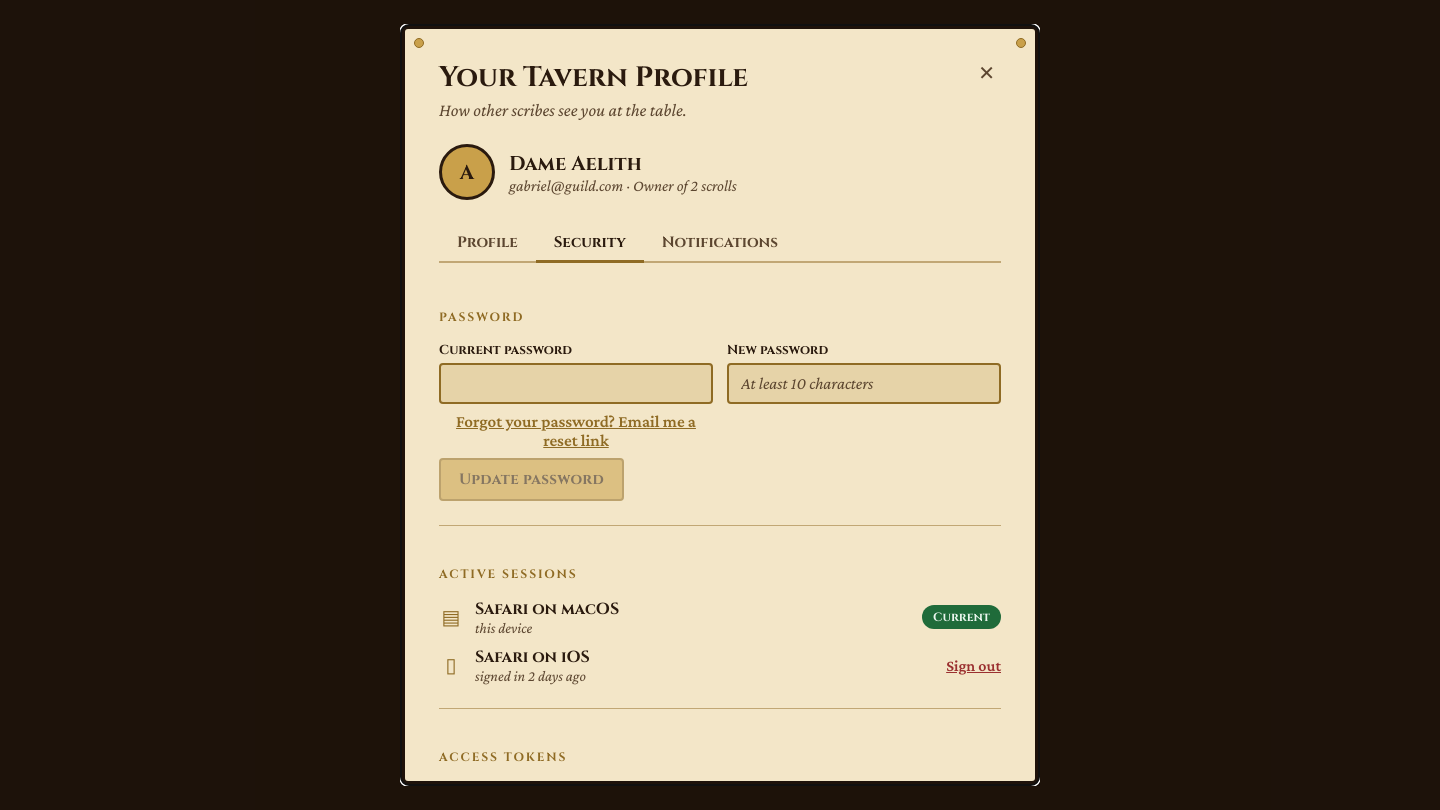
Test: ProfileModalComponent › security › rates the new password and only allows an update once there is a current password and 10+ characters
The image size is (1440, 810).
Type "old password" into the password field named "cur". click: (576, 384)
box: [439, 363, 713, 404]
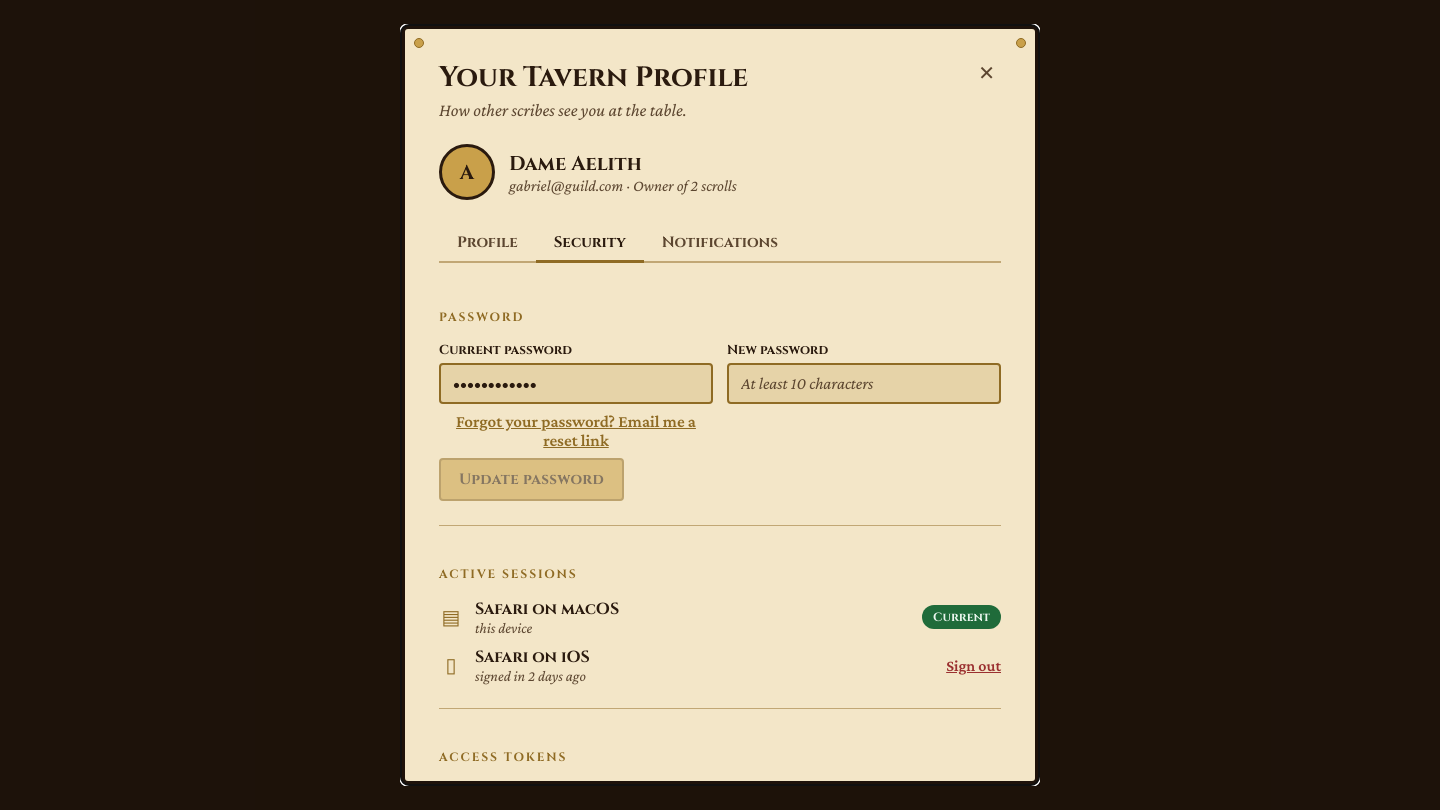
Type "short" into the password field named "new". click: (864, 384)
box: [727, 363, 1001, 404]
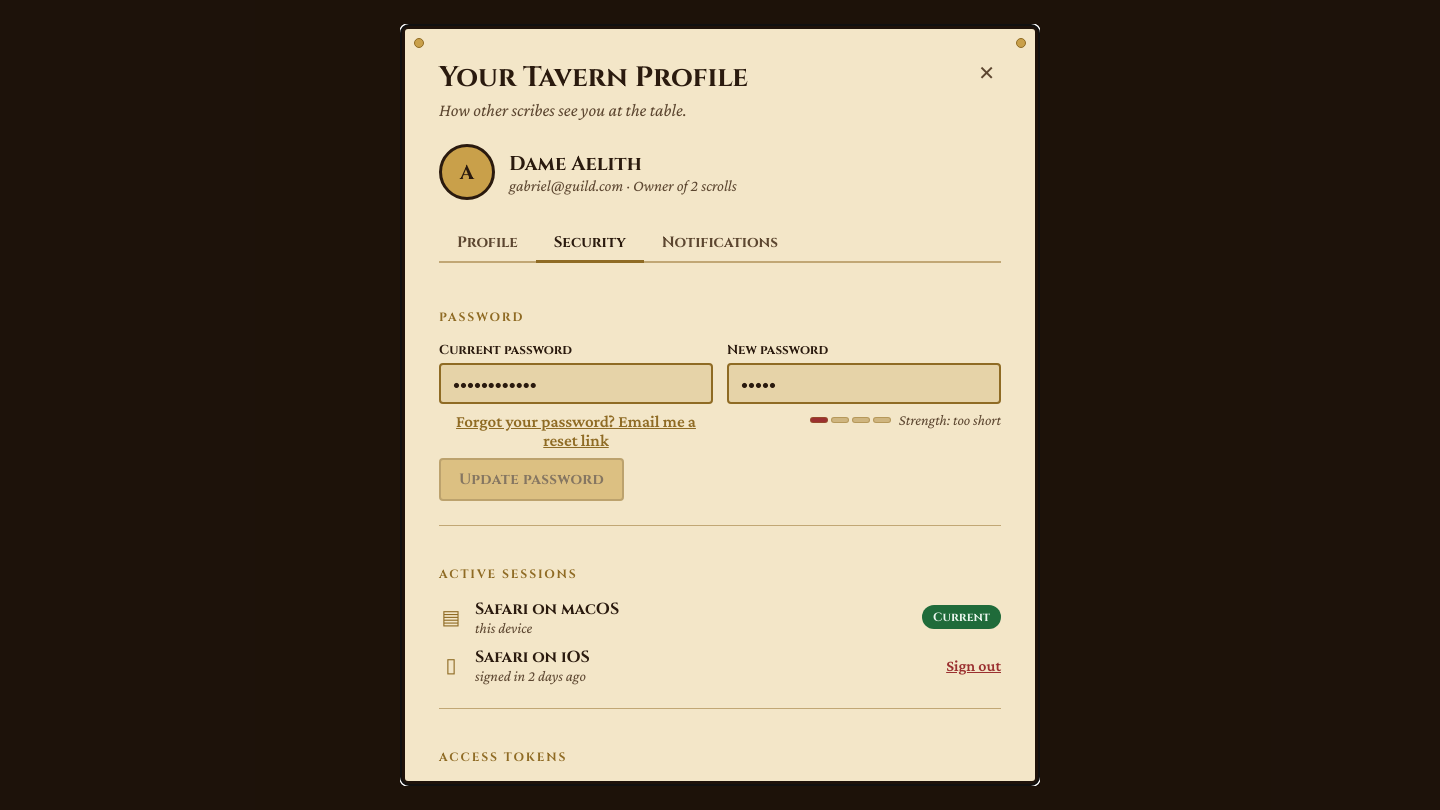
Result: the element with class "strength" shows "too short" at [899, 412, 1001, 428]
Type "correct horse battery staple 42!" into the password field named "new". click: (864, 384)
box: [727, 363, 1001, 404]
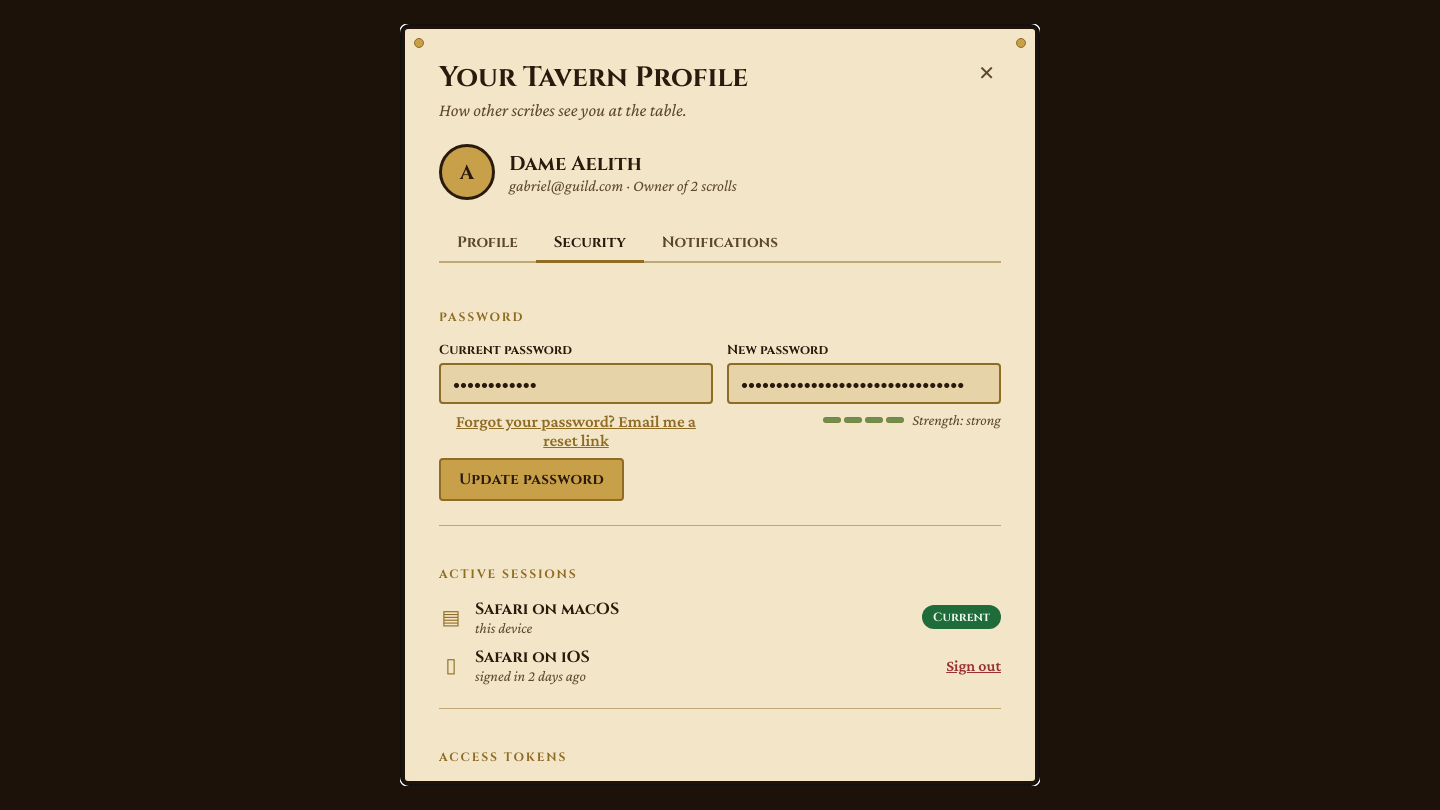
Result: the element with class "strength" shows "strong" at [912, 412, 1001, 428]
